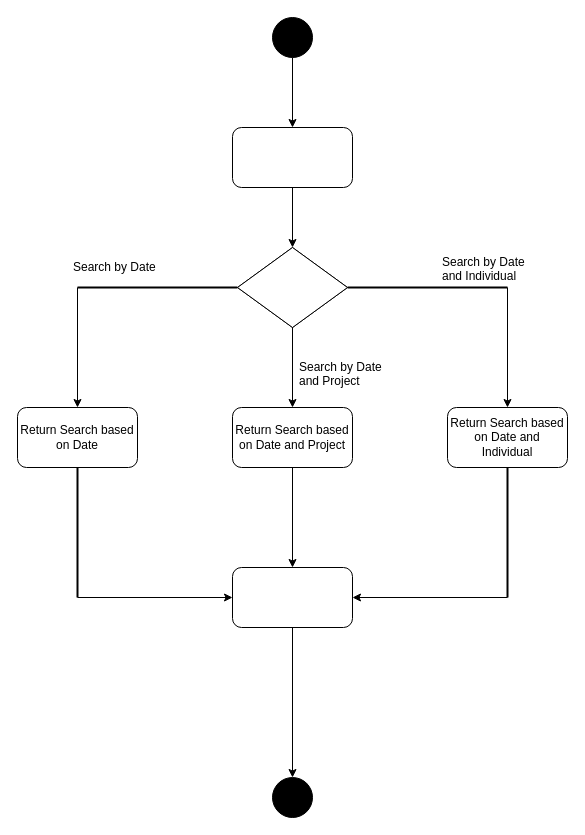
This 585x835 diagram has some shape labels left out. The shapes that lost their labels are listed below. From the top down, each one's centre as x and y in pixels, then its label:
At [292,157]: "Search".
At [292,597]: "Search Result".
